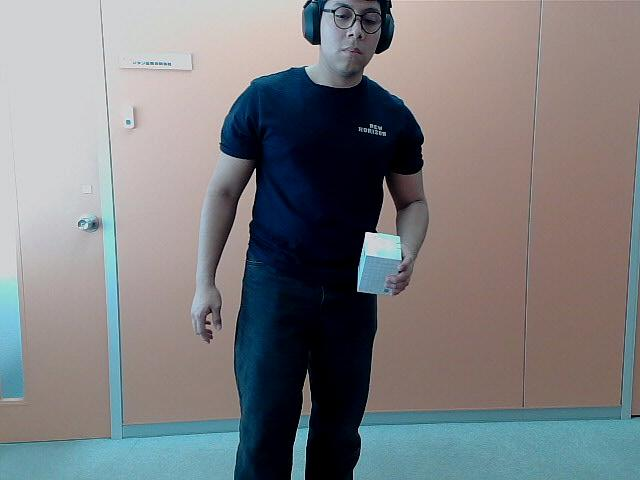Blind_box: (353, 224, 405, 294)
